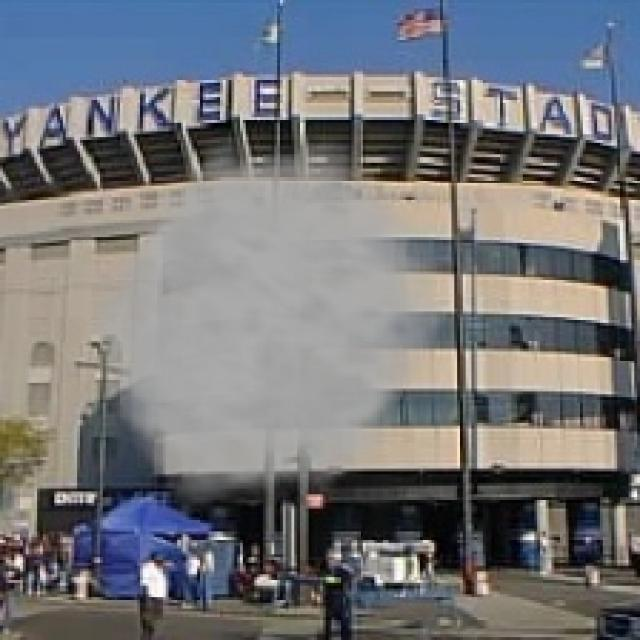smoke: (77, 137, 463, 517)
